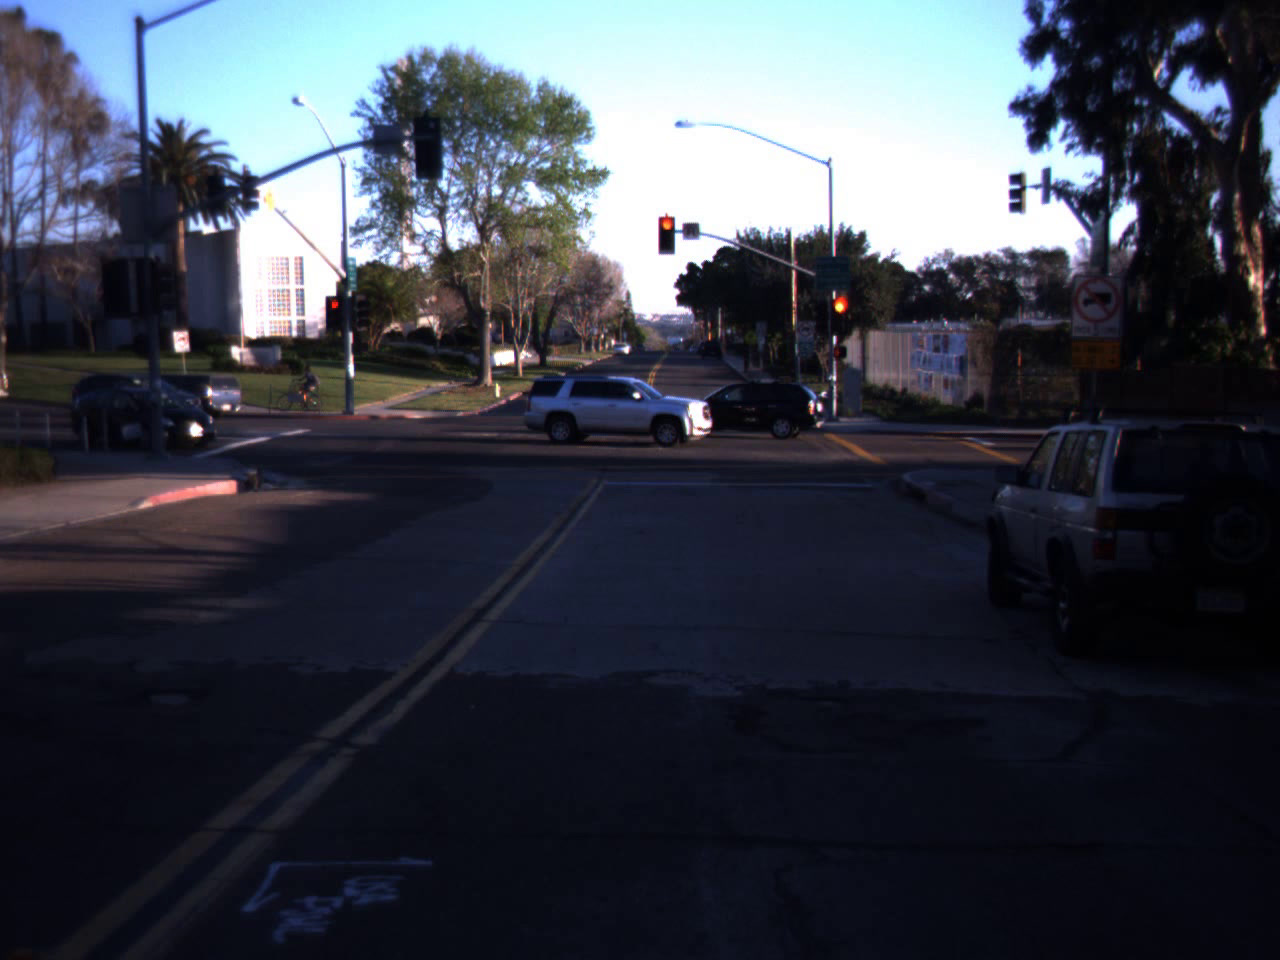stop: (825, 291, 858, 354), (654, 212, 681, 261), (326, 299, 344, 326)
